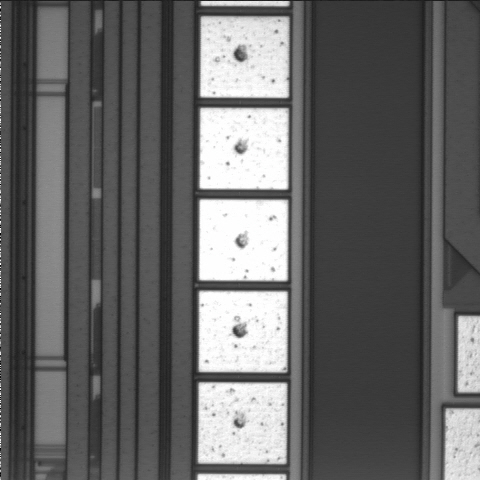pad: (199, 199, 288, 281), (200, 108, 288, 190), (200, 17, 289, 98), (199, 291, 288, 372), (198, 383, 287, 464)
